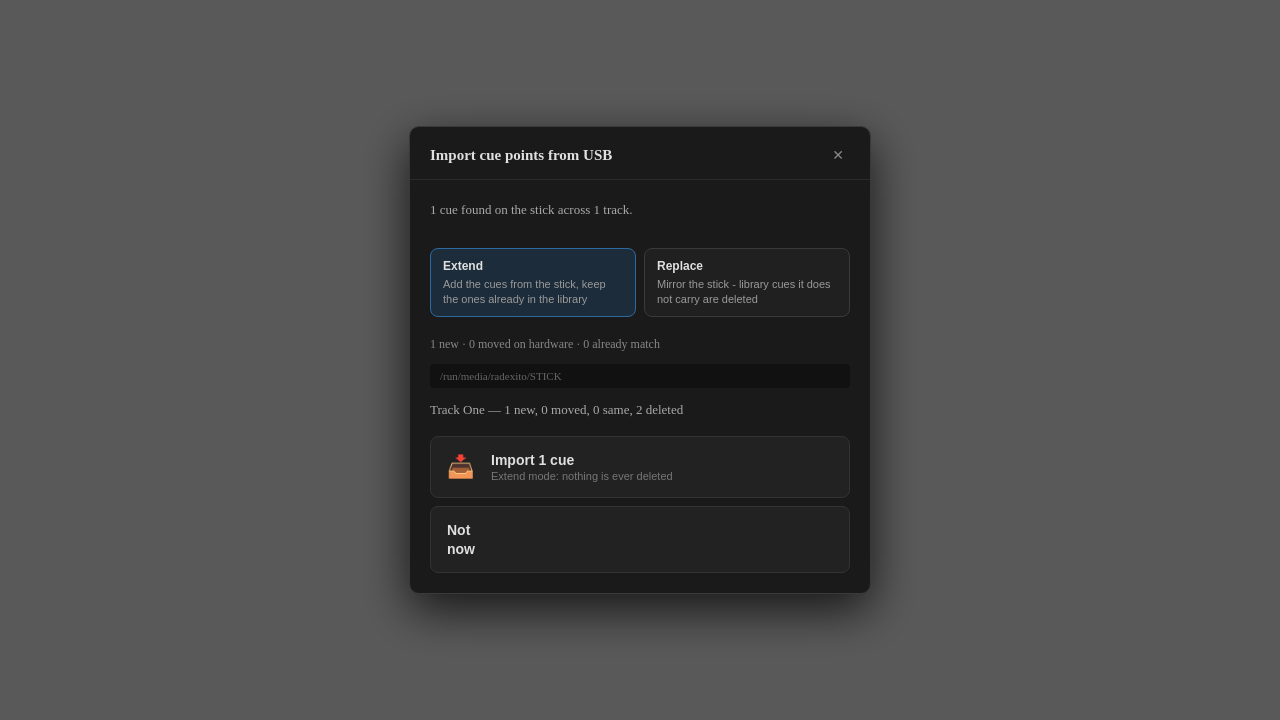
UsbCueImport modes (#518) › warns how many library cues replace would delete
The width and height of the screenshot is (1280, 720).
Click the text "Replace" at (680, 266), box [657, 259, 703, 273]
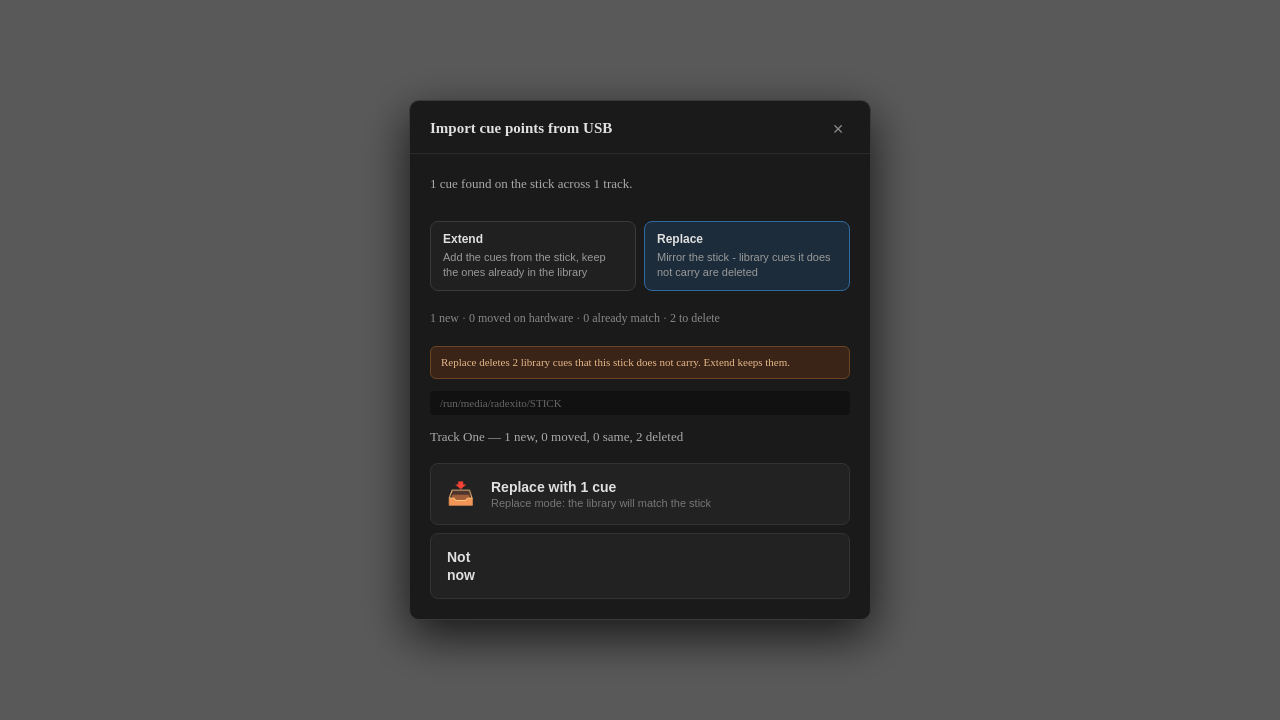
Result: the text "deletes 2 library cues that this stick does not carry" is shown at [430, 346, 850, 379]
Result: the text "Replace with 1 cue" is shown at [491, 479, 616, 495]
